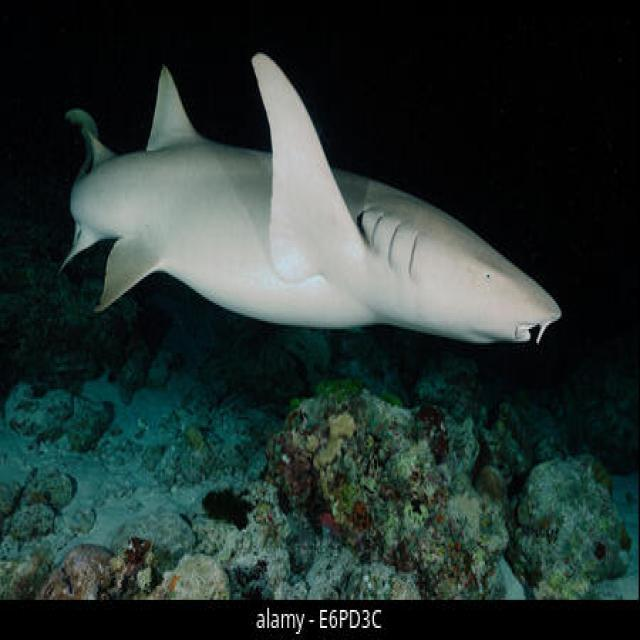Shark: (51, 42, 568, 391)
